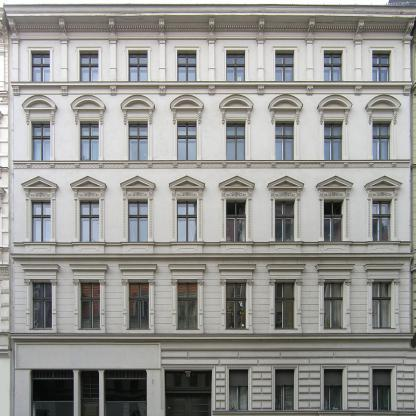Building Outline: (3, 0, 416, 416)
Cornice: (21, 94, 59, 125), (364, 94, 402, 125), (70, 94, 107, 125), (267, 93, 304, 124), (218, 93, 254, 124), (317, 94, 353, 125), (120, 94, 156, 124), (20, 175, 59, 202), (69, 175, 108, 202), (169, 94, 204, 124), (363, 175, 403, 201), (314, 175, 354, 201), (266, 175, 305, 201), (168, 175, 206, 201), (119, 175, 156, 201), (218, 175, 255, 201), (363, 263, 406, 279), (265, 263, 307, 279), (314, 263, 356, 279), (67, 264, 110, 279), (19, 264, 61, 279), (117, 264, 158, 279), (217, 264, 257, 279), (168, 264, 207, 279)
Deco: (405, 18, 416, 36), (7, 17, 16, 36), (307, 18, 316, 36), (356, 18, 365, 36), (258, 17, 266, 36), (58, 18, 66, 36), (107, 18, 115, 36), (208, 17, 215, 36), (158, 18, 165, 36)
Door: (165, 393, 212, 416)
Facade: (2, 4, 416, 416)
Floor: (16, 181, 412, 253), (16, 265, 412, 333), (16, 107, 412, 169)
Floor Slab: (16, 95, 412, 107), (16, 333, 412, 344), (16, 254, 412, 265), (16, 170, 412, 181)
Ground Floor: (16, 344, 412, 416)
Molding: (10, 81, 413, 95), (12, 160, 411, 169), (8, 333, 415, 341), (10, 253, 415, 261), (17, 26, 407, 32), (17, 36, 407, 40), (213, 410, 416, 416)
Pillar: (402, 36, 413, 81), (353, 36, 363, 81), (11, 36, 20, 81), (158, 36, 167, 81), (109, 36, 118, 81), (60, 36, 69, 81), (208, 36, 217, 81), (256, 36, 265, 81), (305, 36, 314, 81)
Top Floor: (16, 16, 412, 95)
Window: (29, 369, 74, 416), (103, 369, 147, 416), (30, 279, 52, 329), (78, 279, 100, 329), (127, 279, 149, 329), (324, 279, 346, 329), (372, 279, 394, 329), (177, 279, 198, 329), (226, 279, 247, 329), (275, 279, 296, 329), (78, 370, 99, 416), (372, 199, 394, 241), (127, 200, 149, 242), (78, 200, 100, 242), (165, 370, 212, 389), (324, 199, 345, 241), (275, 199, 296, 241), (226, 199, 247, 241), (177, 200, 198, 242), (30, 200, 51, 242), (373, 369, 393, 410), (275, 369, 295, 410), (31, 122, 51, 161), (80, 121, 100, 160), (128, 121, 148, 160), (177, 121, 197, 160), (226, 121, 246, 160), (275, 121, 295, 160), (324, 121, 344, 160), (324, 369, 343, 410), (229, 370, 248, 410), (373, 121, 392, 160), (30, 50, 50, 81), (372, 50, 392, 81), (275, 50, 295, 81), (226, 50, 246, 81), (177, 50, 197, 81), (128, 50, 148, 81), (79, 50, 99, 81), (324, 50, 343, 81)
